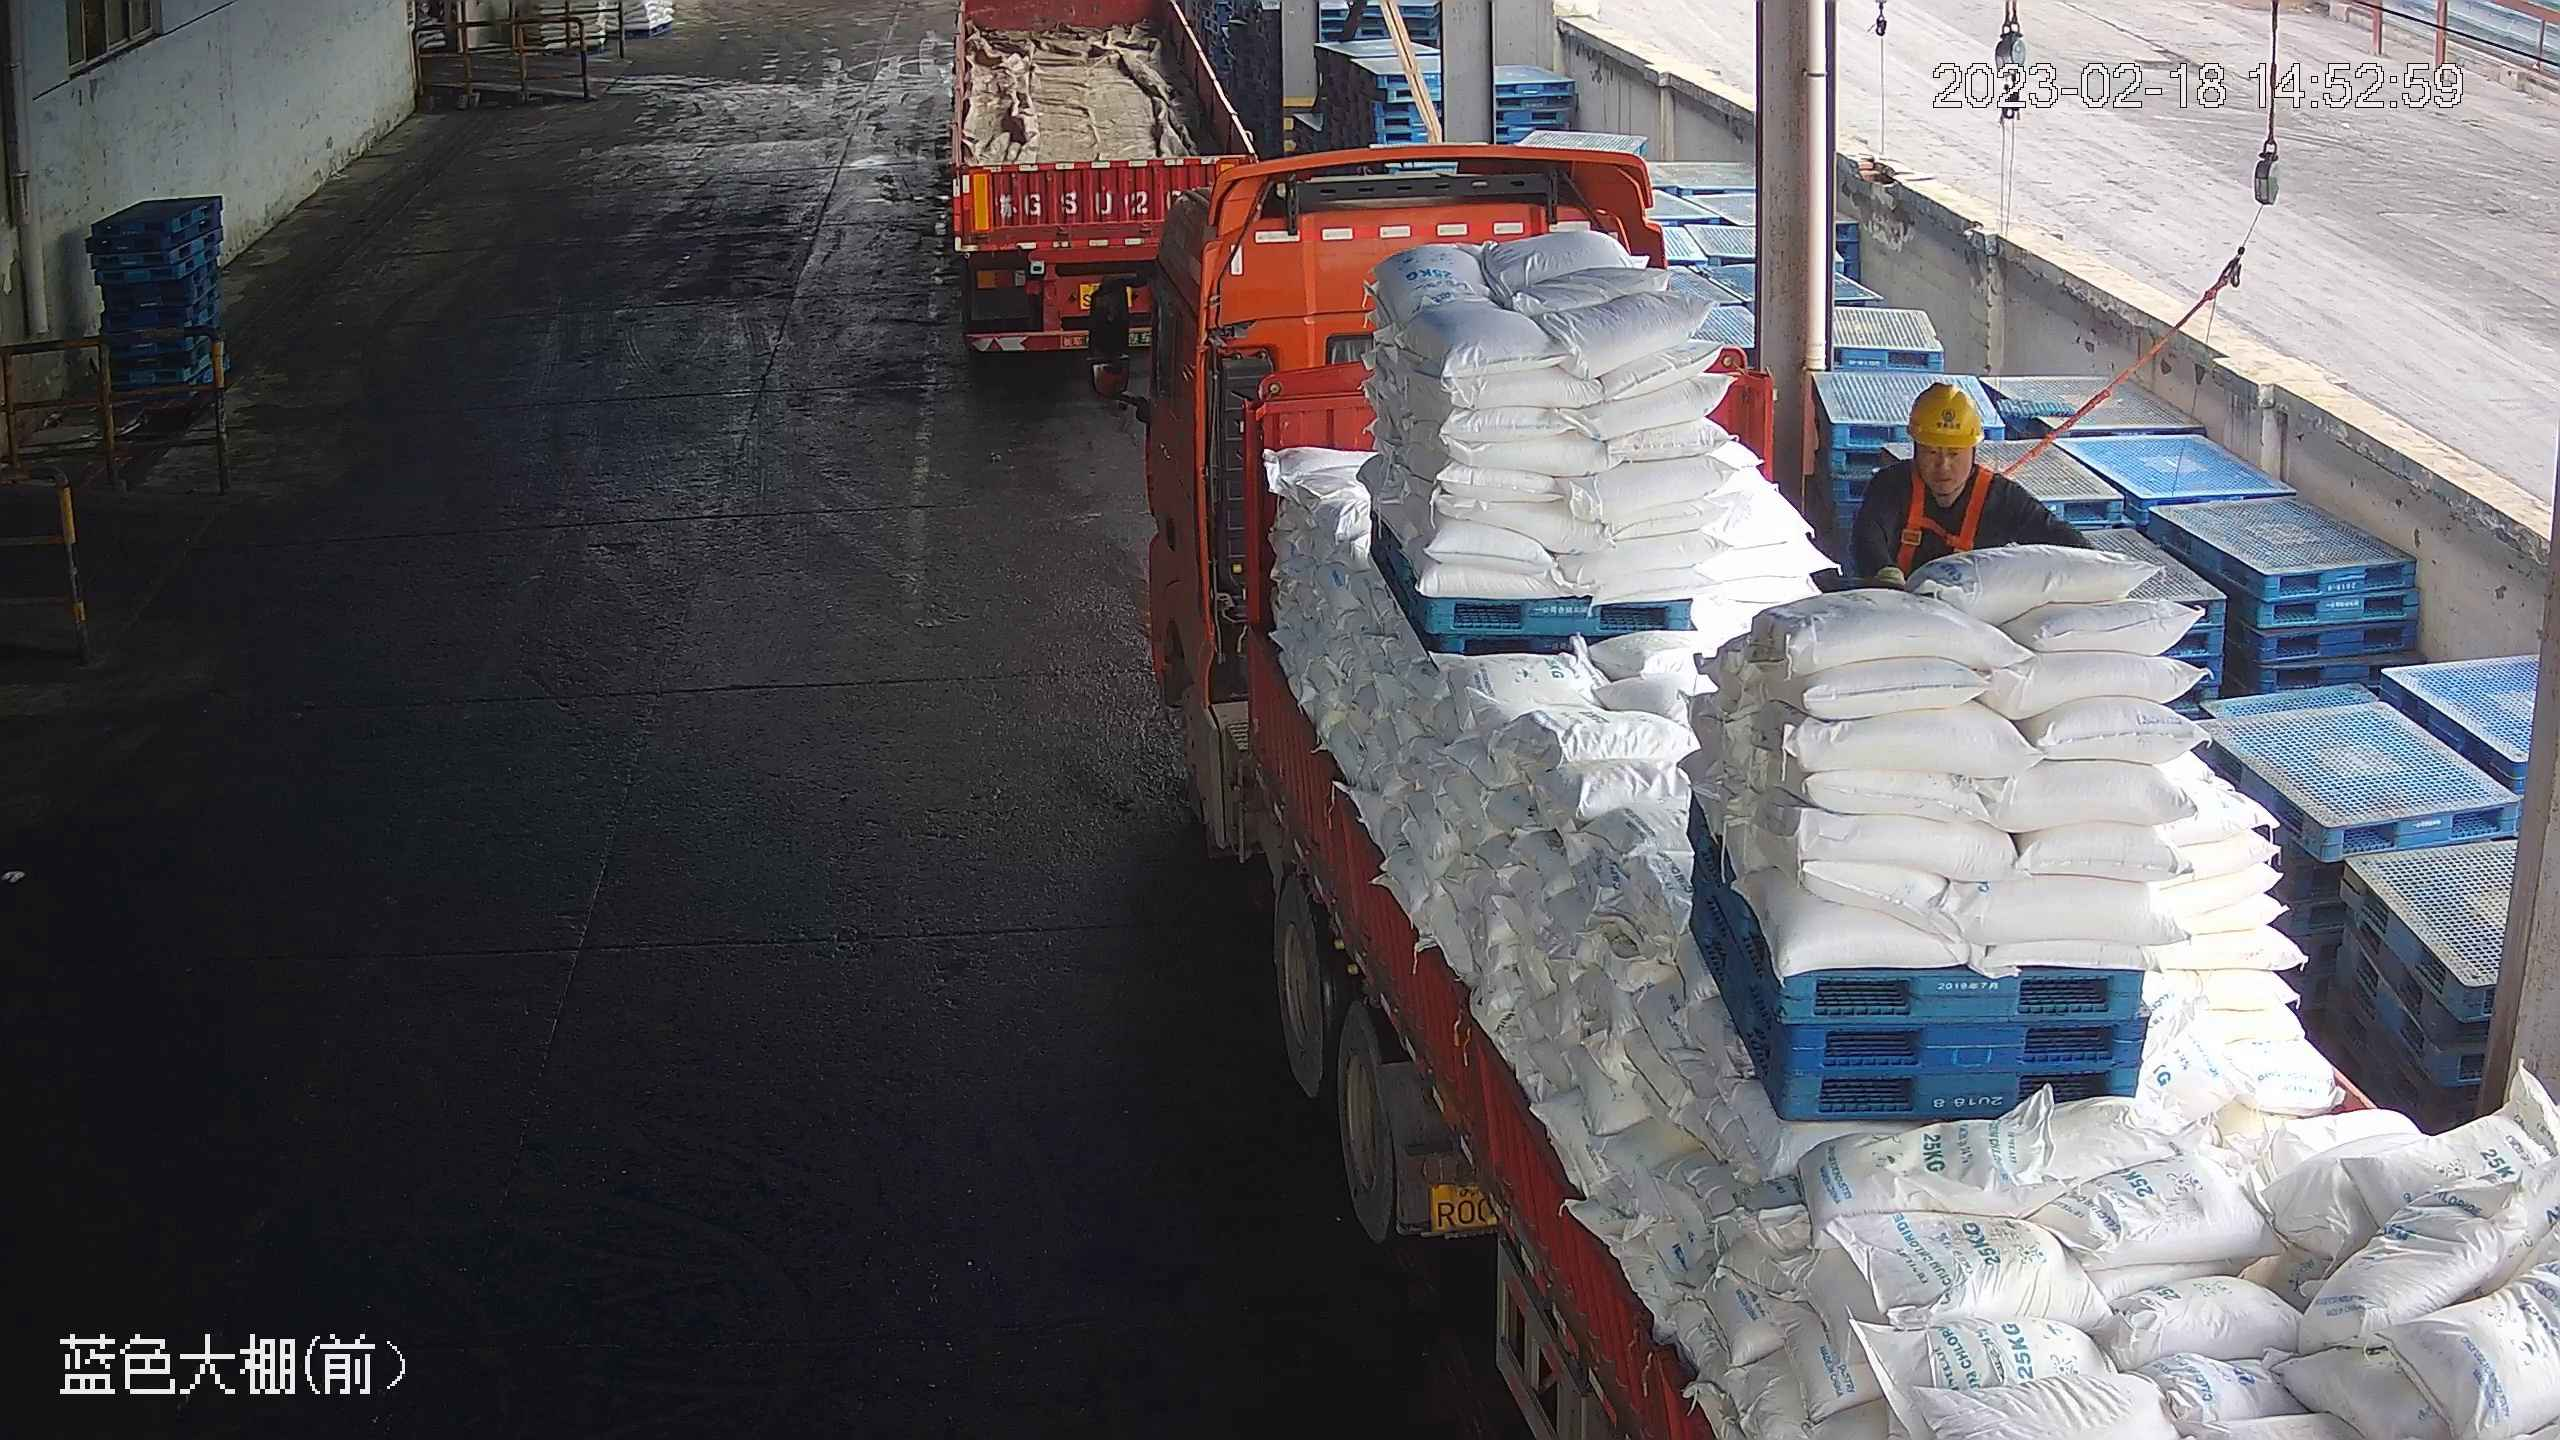belt: (1897, 454, 2001, 569)
head: (1859, 378, 2043, 536)
helmet: (1906, 380, 1988, 450)
truck: (1054, 155, 2555, 1439), (932, 1, 1284, 363)
